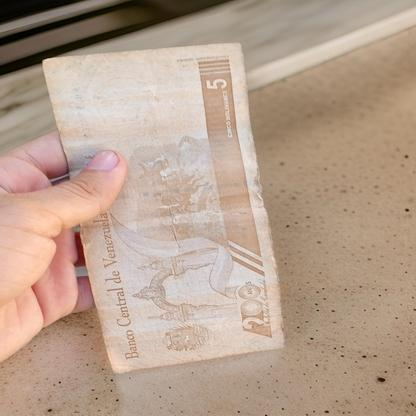five-back-vef: (41, 41, 286, 374)
